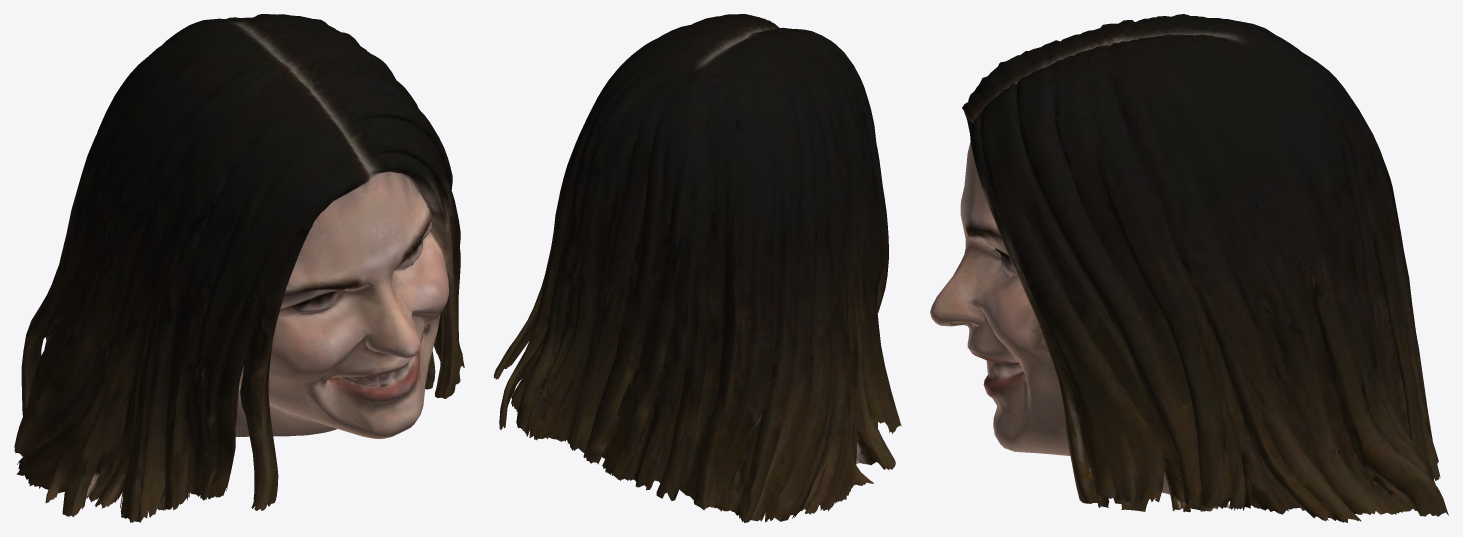
File: head_andrea.glb
The picture shows the model from 3 angles, left to right: view 1: azimuth 30°, elevation 25°; view 2: azimuth 150°, elevation 25°; view 3: azimuth 270°, elevation 25°; orthographic projection. The views are drawn at different scales.
Visible parts, largest first — view 1: Mesh_0; view 2: Mesh_0; view 3: Mesh_0.
Boxes of the visible parts, x1,y1,x2,y2 form: Mesh_0: (14,14,464,522); Mesh_0: (493,14,901,522); Mesh_0: (930,14,1448,522).
Bounding box in the file's own units: 0.5108 × 0.5693 × 0.5538.
Materials: 1 (1 with a texture image).
